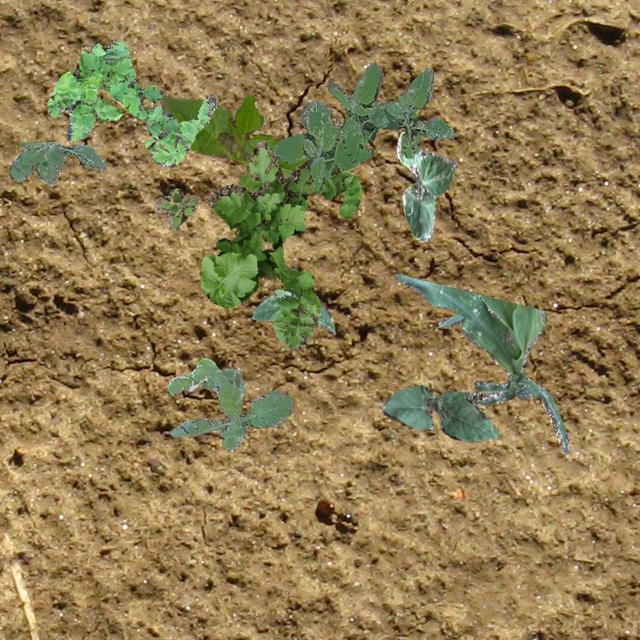crop: (394, 274, 568, 452), (160, 94, 318, 195), (382, 384, 498, 441), (396, 130, 456, 240)
weed: (200, 116, 360, 350), (272, 62, 454, 188), (46, 40, 216, 166), (166, 358, 292, 450), (10, 140, 104, 186), (251, 288, 333, 332), (152, 188, 196, 230)
